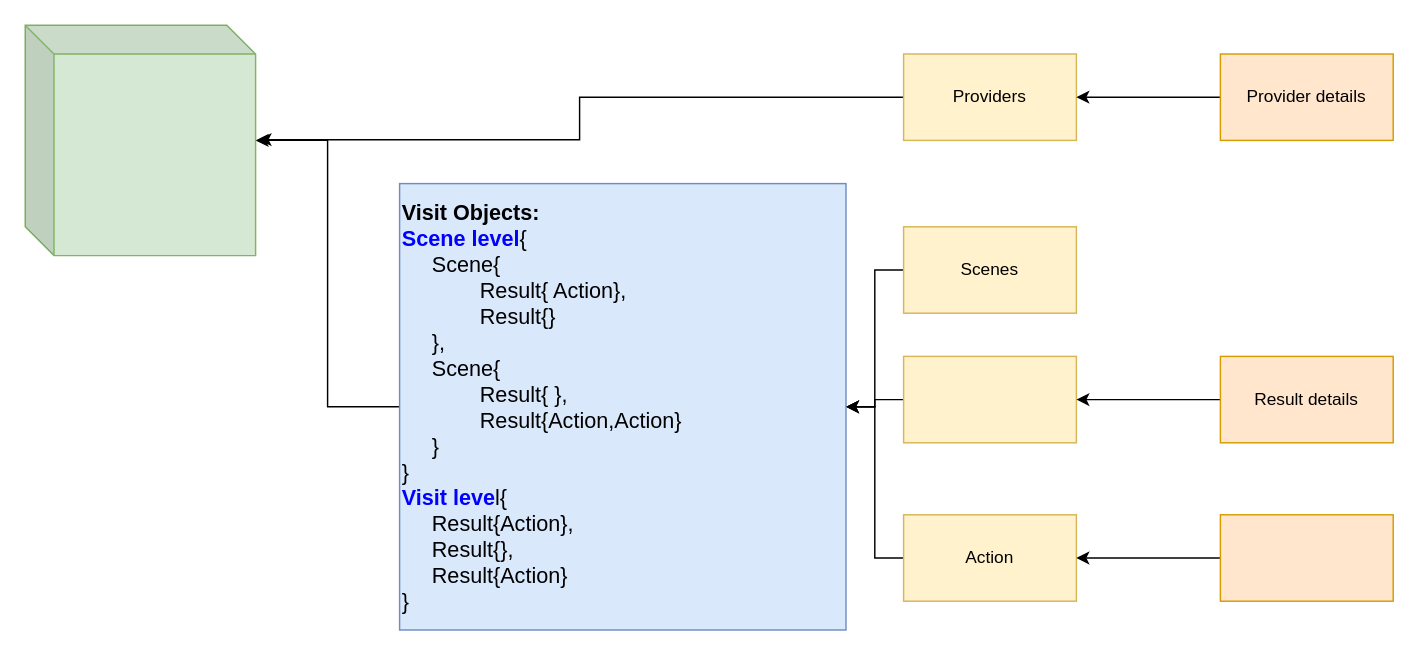
This 1418x655 diagram has some shape labels left out. The centre of each missing label's shape, as x and y in pixels:
"Action details" belongs at pixel 1306 557.
"Results" belongs at pixel 989 399.
"Visit / rout / client / pirt / ents + Provider + Visit Objects" belongs at pixel 140 140.
